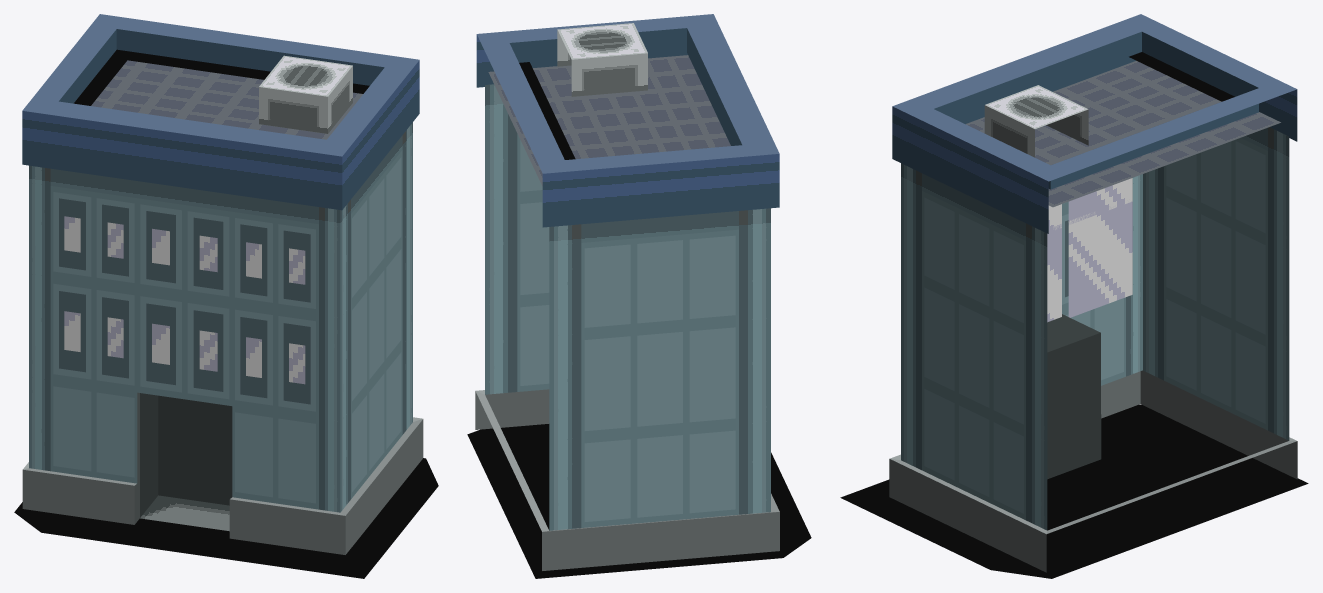
File: jubilife_city_building_lev3.glb
3 renders of one model, left to right at view 1: azimuth 30°, elevation 25°; view 2: azimuth 150°, elevation 25°; view 3: azimuth 270°, elevation 25°, orthographic. The views are drawn at different scales.
Parts seen in each view (by area): view 1: jubilife_city_building_lev3; view 2: jubilife_city_building_lev3; view 3: jubilife_city_building_lev3.
Boxes of the visible parts, x1=… form: jubilife_city_building_lev3: x1=14, y1=14, x2=438, y2=578; jubilife_city_building_lev3: x1=467, y1=14, x2=811, y2=578; jubilife_city_building_lev3: x1=840, y1=14, x2=1308, y2=578.
Size of the model in its own units: 39.32 by 43.16 by 44.66.
4 materials, 4 textured.
